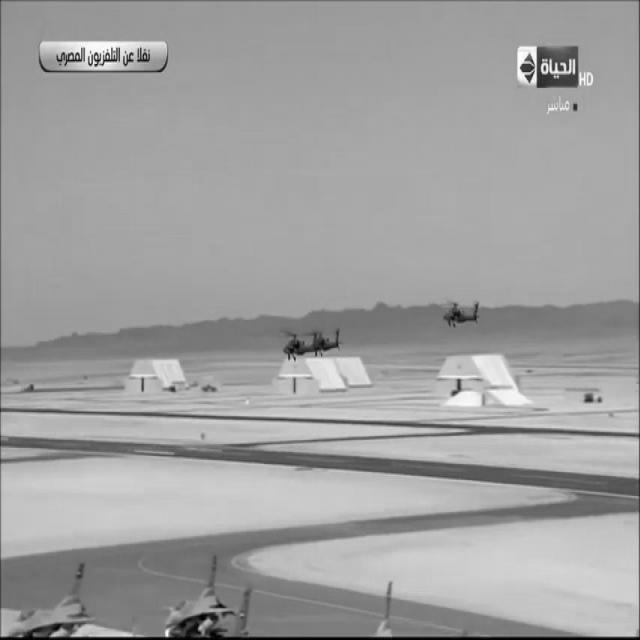helikopter: (264, 314, 347, 376), (440, 281, 493, 348)
